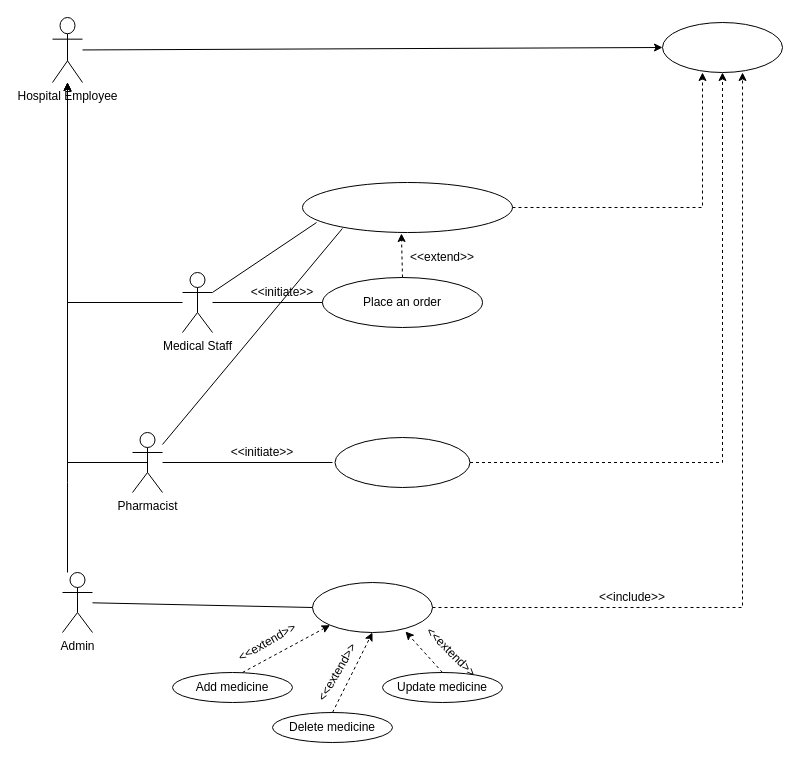
Image size: 800x760. Some labels were removed from this diagram. Each missing label, with the centre of its shape:
"Login" goes at pixel 722 47.
"Manage Inventory" goes at pixel 372 607.
"Prepare order" goes at pixel 402 462.
"View inventory and place an order" goes at pixel 407 207.
